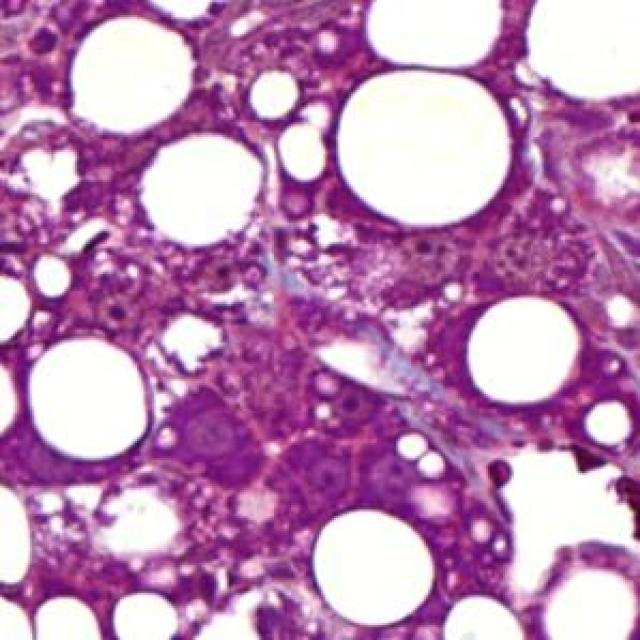steatosis: (336, 73, 524, 225), (310, 503, 446, 636), (23, 334, 150, 462), (62, 19, 201, 133), (141, 131, 270, 246), (466, 294, 576, 402)
